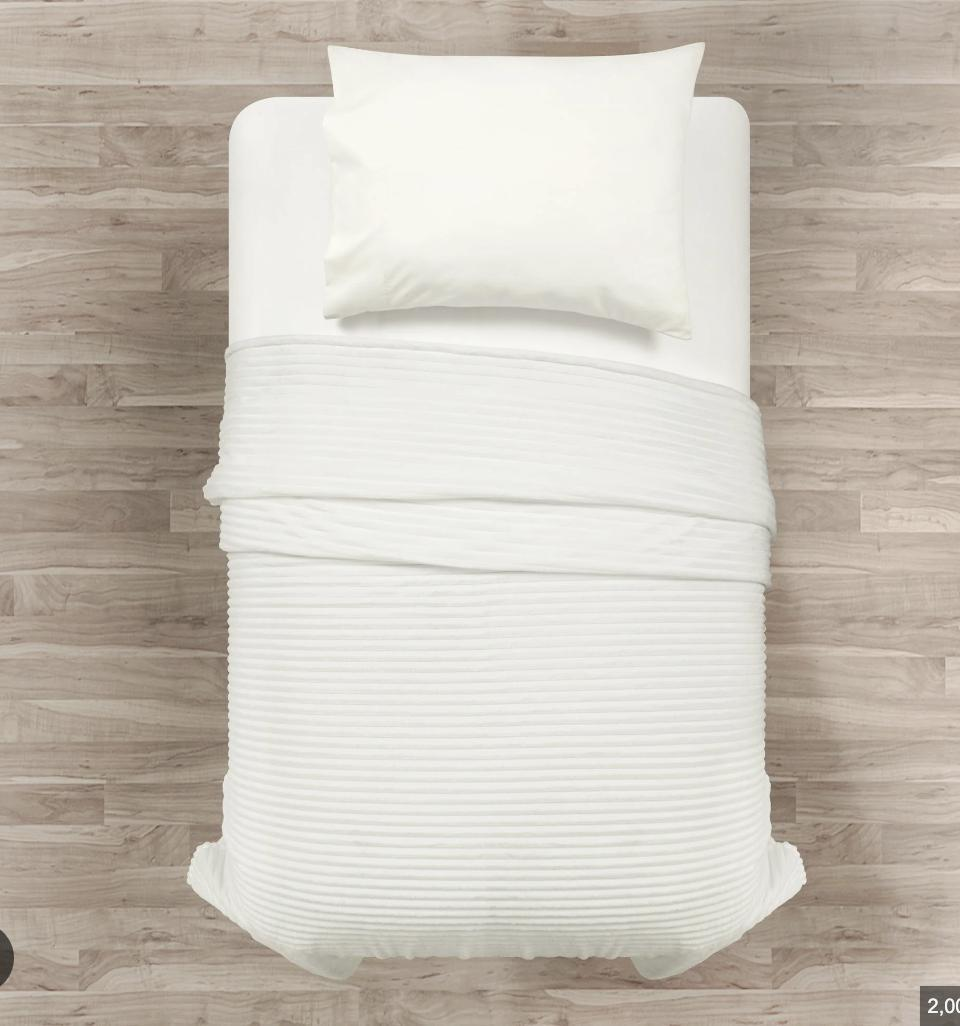Bed-Mattress: (215, 42, 797, 970)
